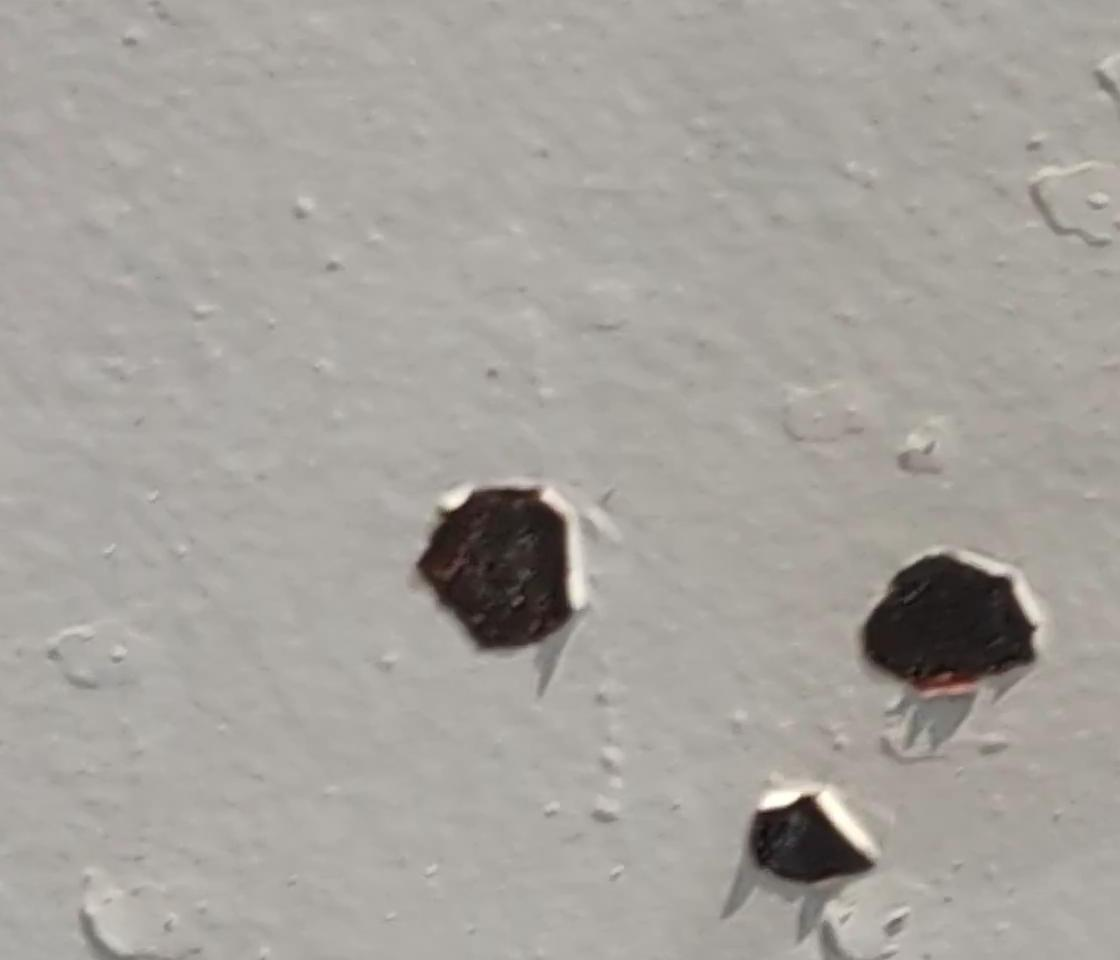rust: (858, 549, 1034, 692), (426, 489, 567, 641), (755, 805, 862, 880)
